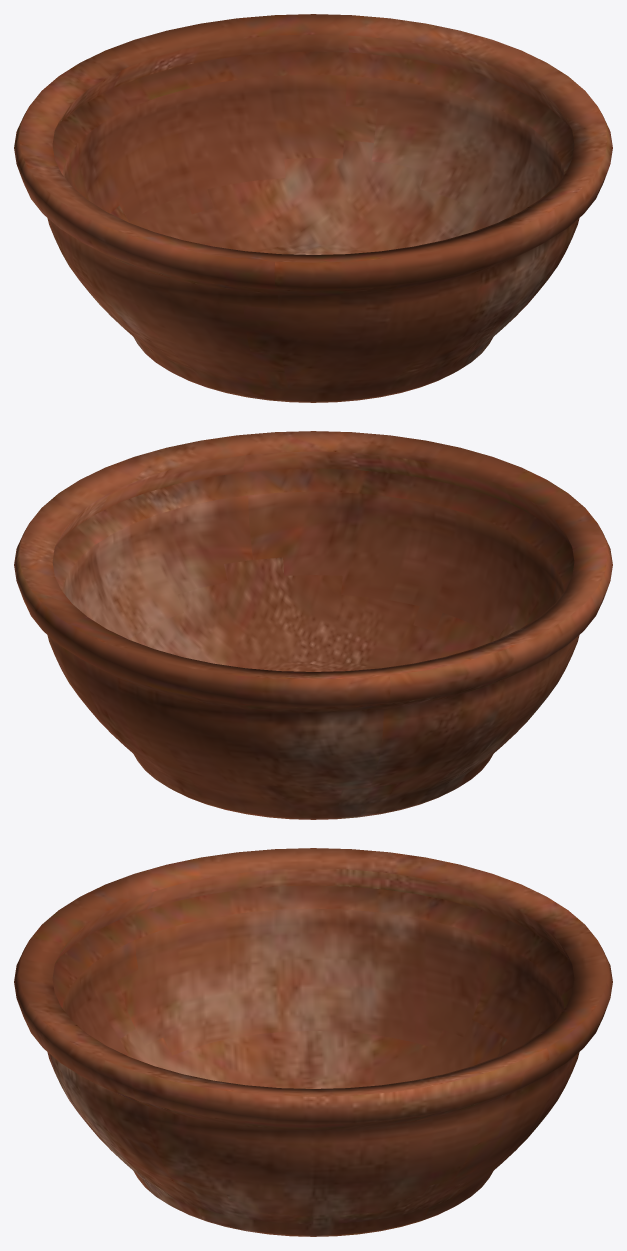
Rendered from pot_bowl_web.glb.
3 views of the same model, one above another, from view 1: azimuth 30°, elevation 25°; view 2: azimuth 150°, elevation 25°; view 3: azimuth 270°, elevation 25° (orthographic).
Visible parts, largest first — view 1: PotBowl_Mesh; view 2: PotBowl_Mesh; view 3: PotBowl_Mesh.
Boxes of the visible parts, bbox=[...] form: PotBowl_Mesh: bbox=[14, 14, 612, 402]; PotBowl_Mesh: bbox=[14, 431, 612, 819]; PotBowl_Mesh: bbox=[14, 848, 612, 1236].
Bounding box in the file's own units: 0.342 × 0.12 × 0.342.
Materials: 1 (1 with a texture image).
